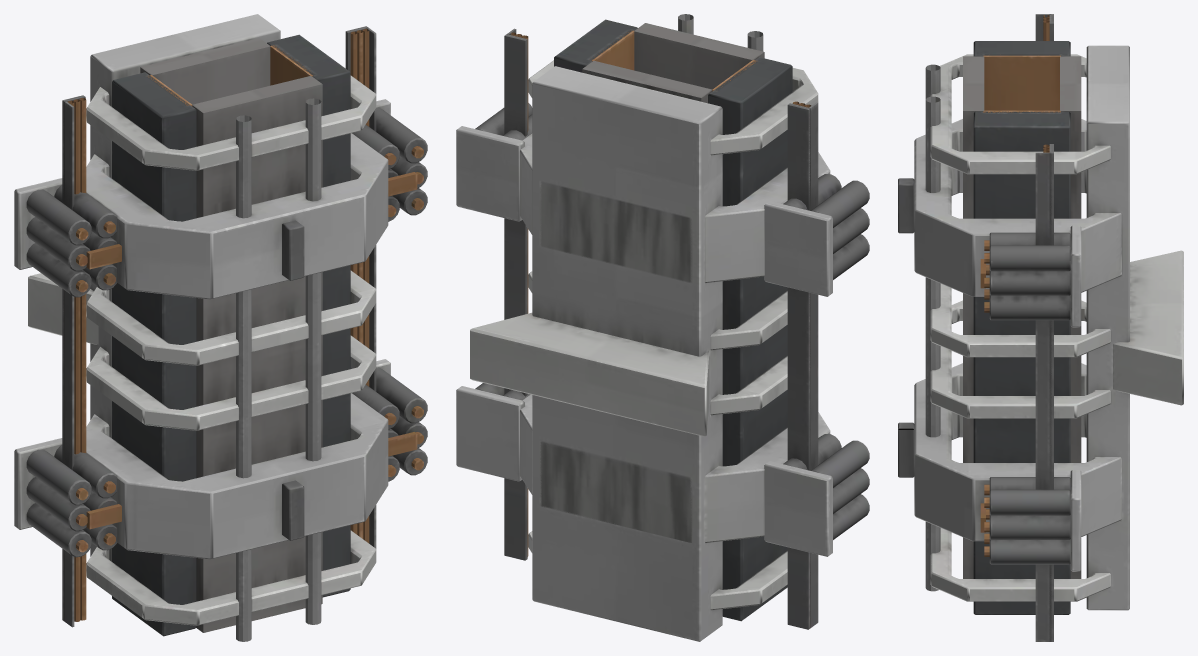
File: railgun-segment.glb
3 views of the same model, side by side, from view 1: azimuth 30°, elevation 25°; view 2: azimuth 150°, elevation 25°; view 3: azimuth 270°, elevation 25° (orthographic). The views are drawn at different scales.
Visible parts, largest first — view 1: railgun-segment; view 2: railgun-segment; view 3: railgun-segment.
Boxes of the visible parts, <box> form: railgun-segment: <box>14,14,427,641</box>; railgun-segment: <box>456,14,869,641</box>; railgun-segment: <box>898,14,1183,641</box>.
Size of the model in its own units: 7.5 by 10 by 5.3.
1 material, 1 textured.
